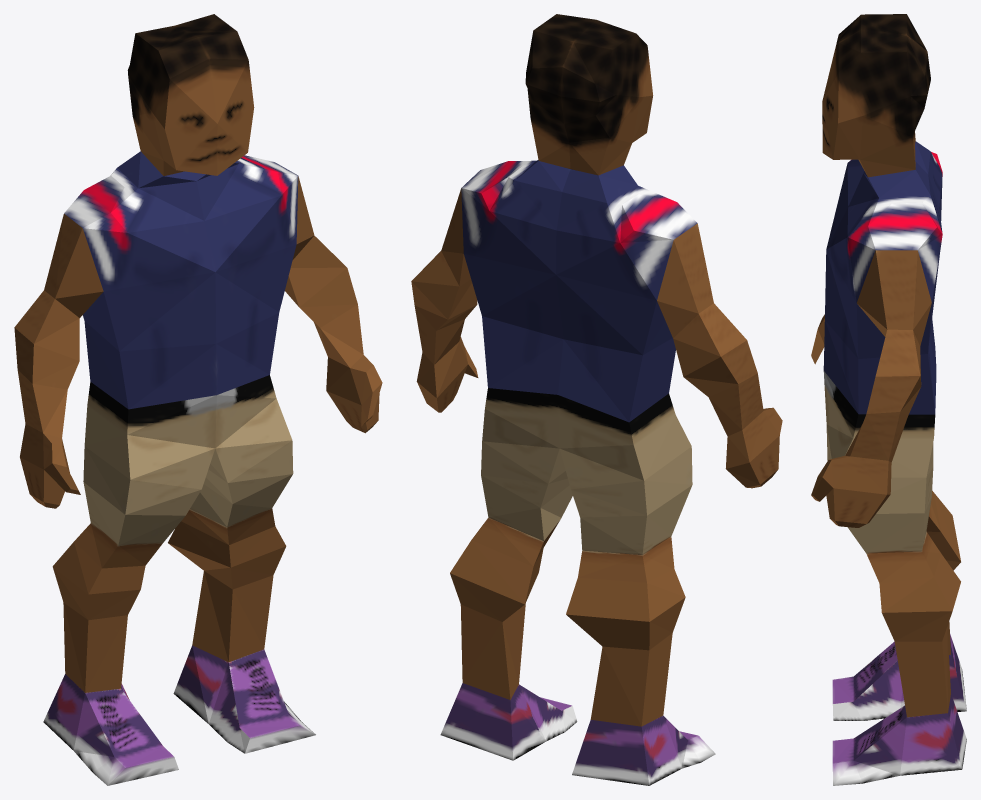
File: NPC4.dae
3 views of the same model, side by side, from view 1: azimuth 30°, elevation 25°; view 2: azimuth 150°, elevation 25°; view 3: azimuth 270°, elevation 25° (orthographic).
Parts seen in each view (by area): view 1: Cube; view 2: Cube; view 3: Cube.
Part boxes in pixels (<box>): Cube: <box>14,14,382,785</box>; Cube: <box>411,14,782,785</box>; Cube: <box>811,14,966,785</box>.
Size of the model in its own units: 1.03 by 0.4183 by 2.09.
